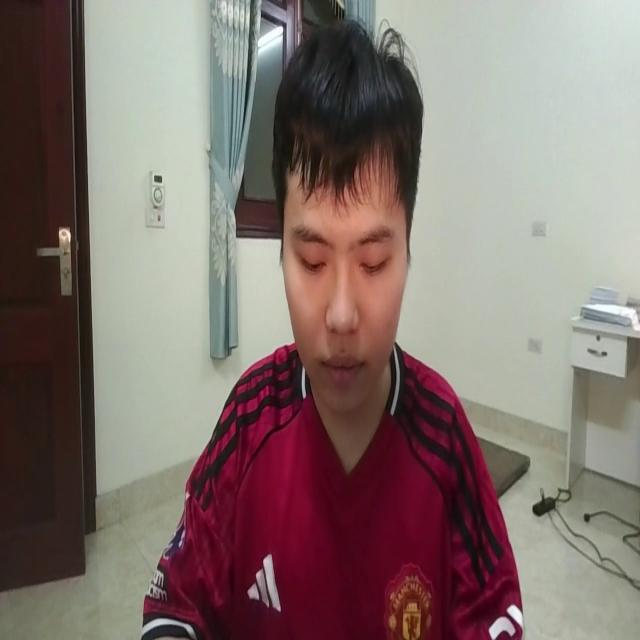student: (136, 24, 522, 640)
